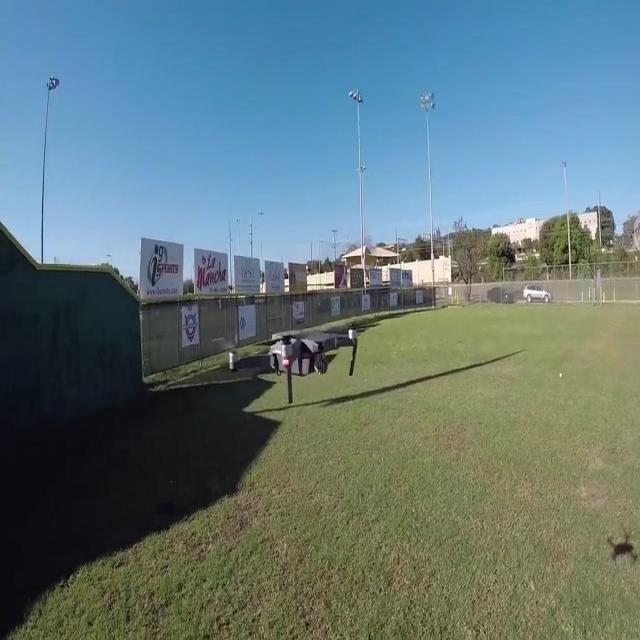UAV: (229, 322, 381, 403)
